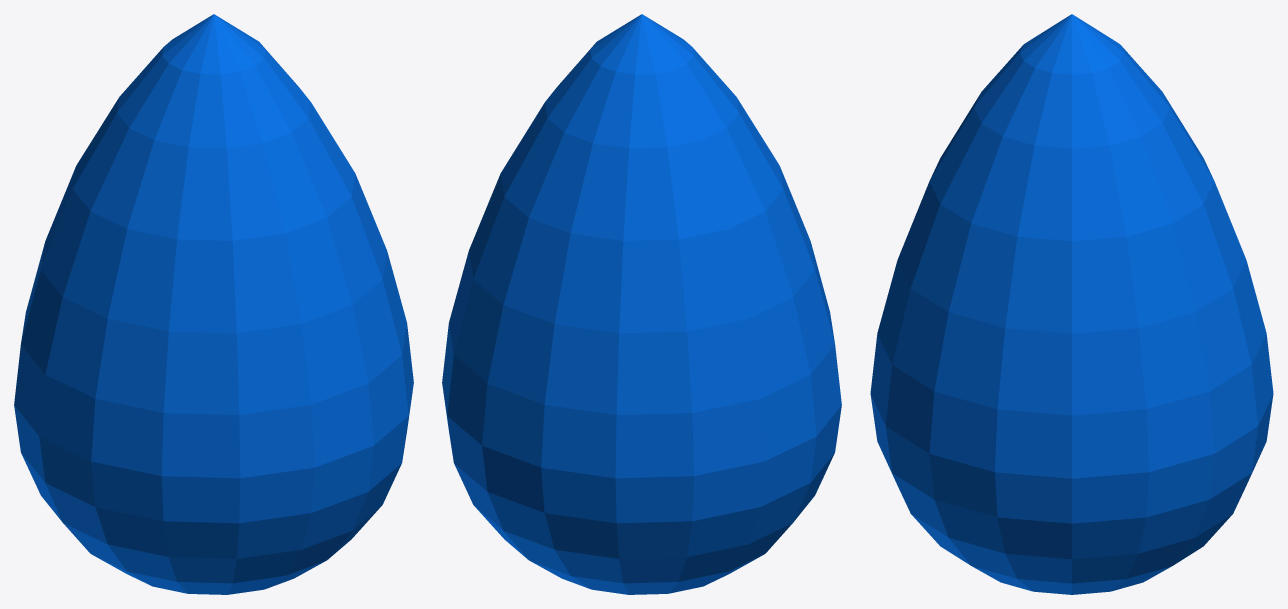
File: WaterSprite_1.glb
3 views of the same model, side by side, from view 1: azimuth 30°, elevation 25°; view 2: azimuth 150°, elevation 25°; view 3: azimuth 270°, elevation 25° (orthographic).
Visible parts, largest first — view 1: 球体; view 2: 球体; view 3: 球体.
Part boxes in pixels (x1=…): 球体: x1=14, y1=14, x2=413, y2=594; 球体: x1=442, y1=14, x2=841, y2=594; 球体: x1=870, y1=14, x2=1273, y2=594.
Size of the model in its own units: 2 by 3.08 by 2.
